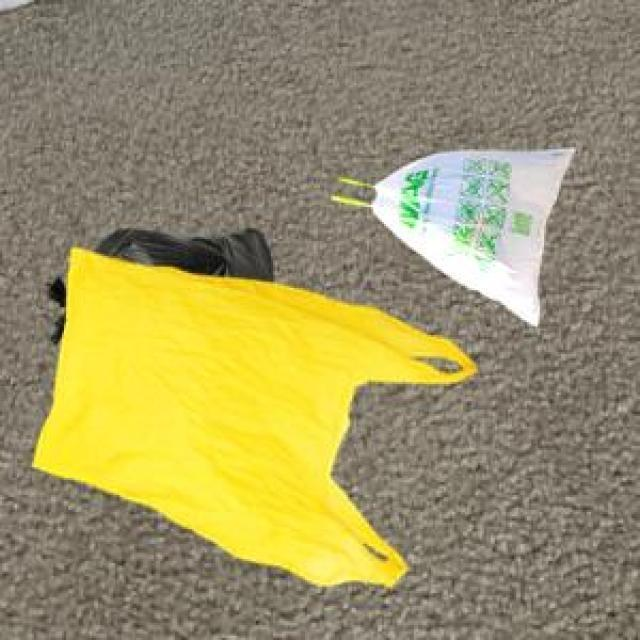miscellaneous trash: (43, 224, 268, 339)
